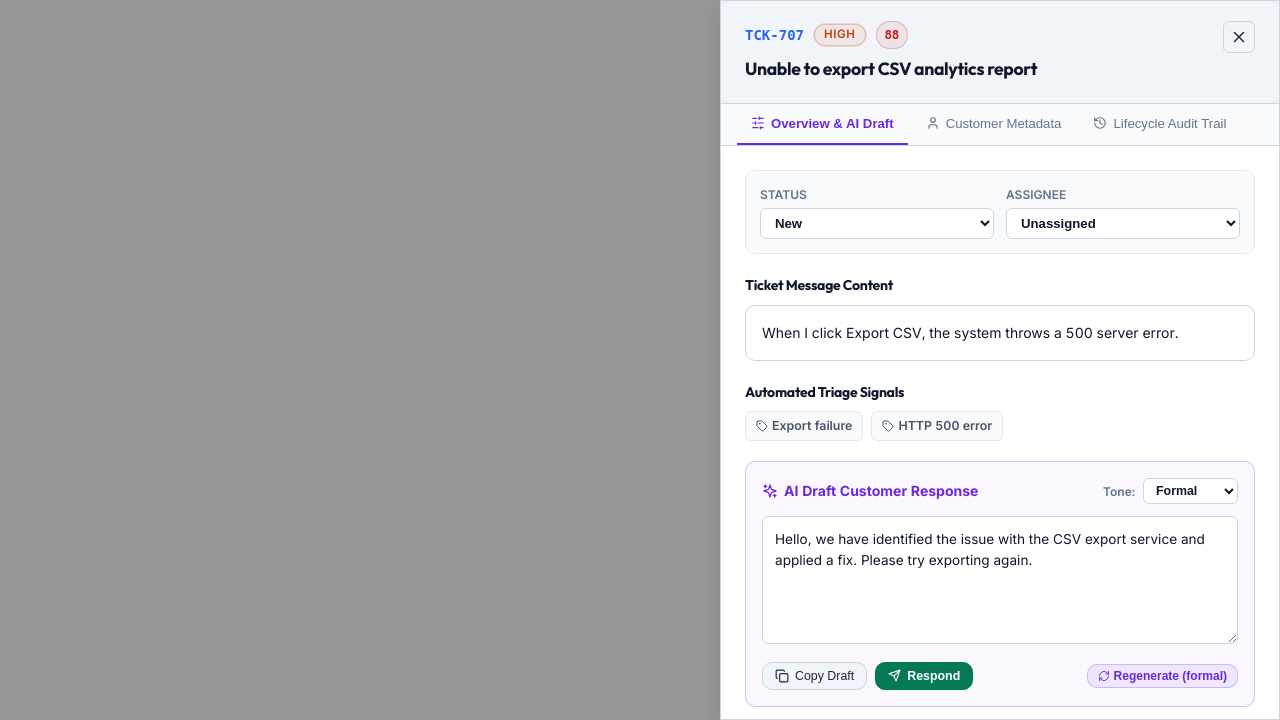
TicketDetailDrawer - AI Draft Respond Button & Notification (SPEC 007) › displays Message Sent notification (data-testid="message-sent-toast") when Respond button is clicked
Step 1. Click the button with test id "respond-btn" → (924, 676), box [875,662,973,690]
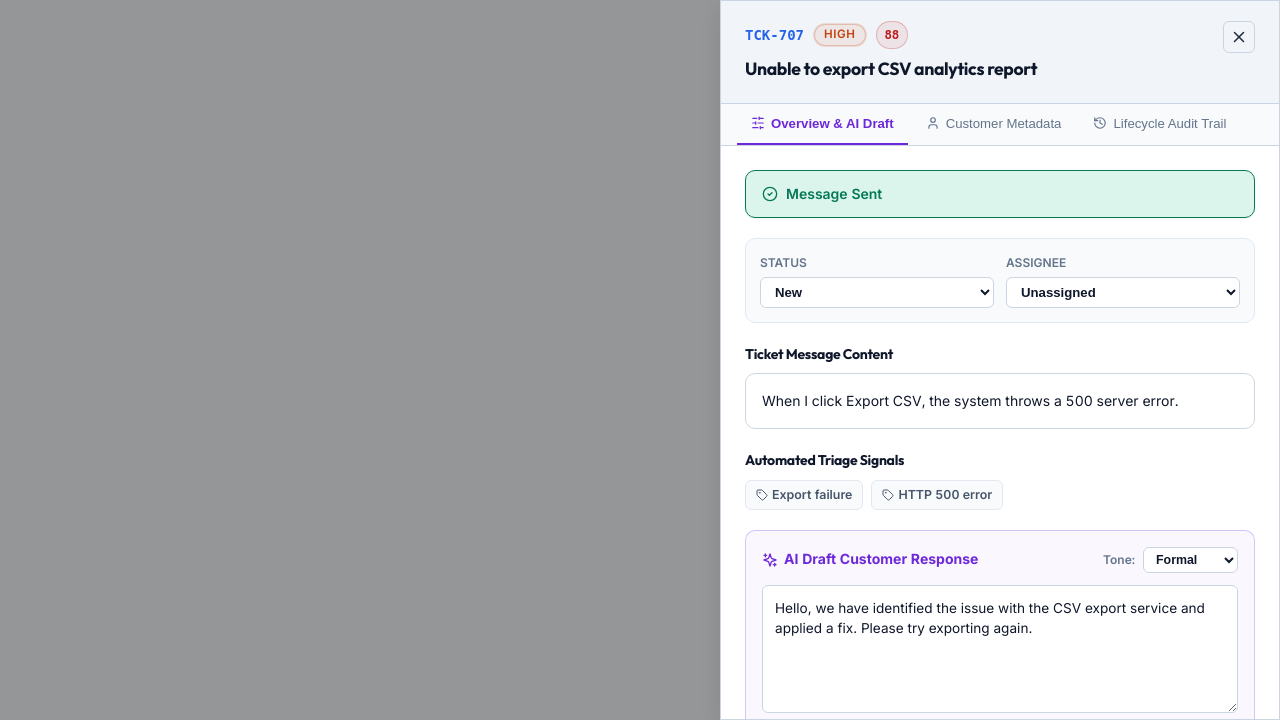
Expected: the message "Message Sent" is shown, [745,170,1255,218]
Expected: the message with test id "message-sent-toast" reads "Message Sent", [786,185,882,202]
